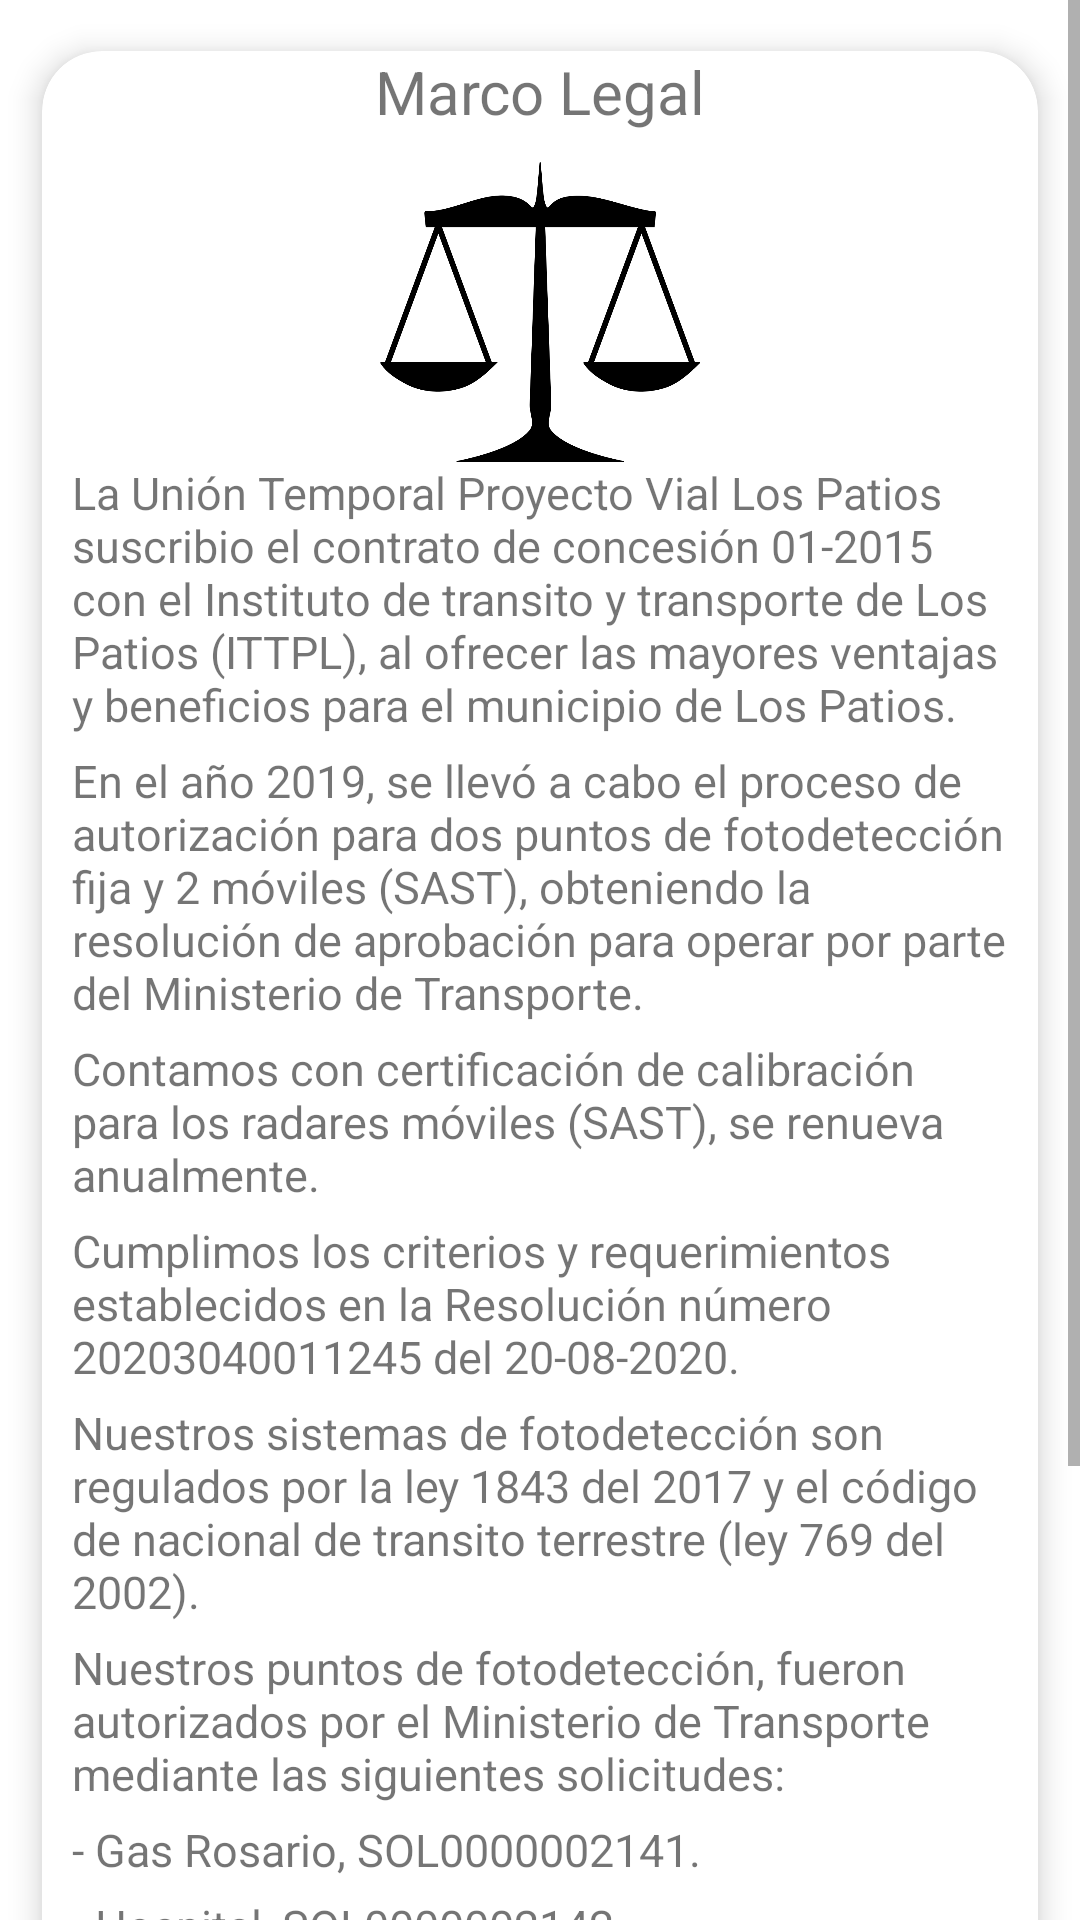

Point at icon controls on the screen. Image size 1080*1920, points as point (x, y).
justicia: point (540, 312)
